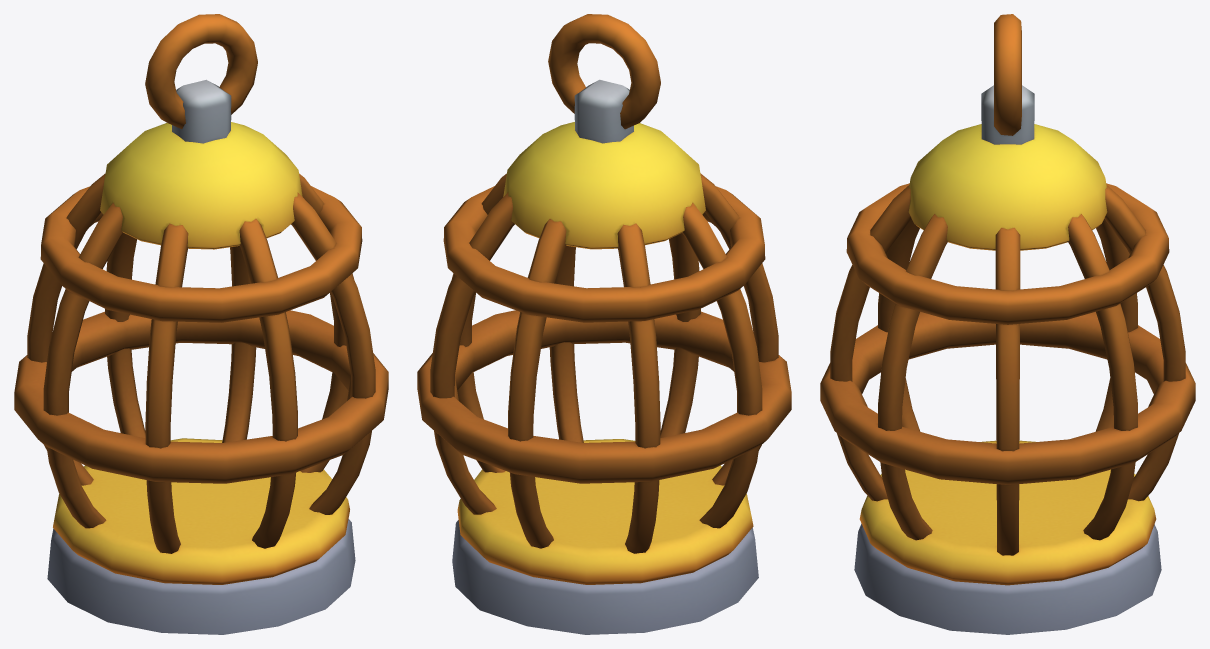
Rendered from Cage.fbx.
3 views of the same model, side by side, from view 1: azimuth 30°, elevation 25°; view 2: azimuth 150°, elevation 25°; view 3: azimuth 270°, elevation 25° (orthographic).
Parts seen in each view (by area): view 1: Cage; view 2: Cage; view 3: Cage.
Boxes of the visible parts, left/top/right/bottom form: Cage: left=14, top=14, right=388, bottom=634; Cage: left=417, top=14, right=791, bottom=634; Cage: left=820, top=14, right=1195, bottom=634.
Size of the model in its own units: 43.86 by 70.91 by 43.86.
Materials: 1 (1 with a texture image).
